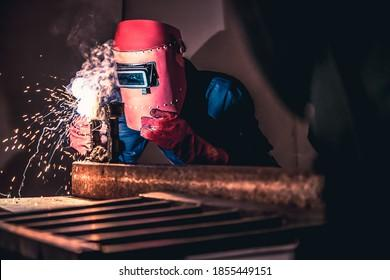gloves: (139, 108, 228, 166)
